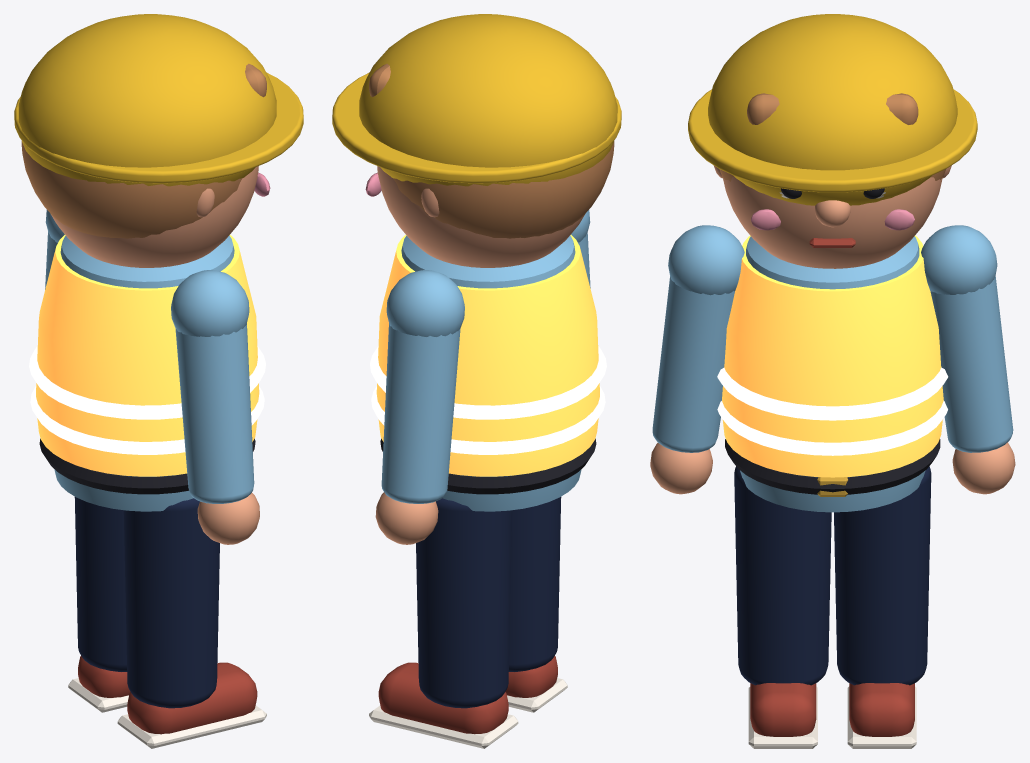
File: ped_worker.glb
3 renders of one model, left to right at view 1: azimuth 30°, elevation 25°; view 2: azimuth 150°, elevation 25°; view 3: azimuth 270°, elevation 25°, orthographic.
Visible parts, largest first — view 1: ped_worker; view 2: ped_worker; view 3: ped_worker.
Part boxes in pixels (x1=…): ped_worker: x1=14, y1=14, x2=303, y2=748; ped_worker: x1=332, y1=14, x2=621, y2=748; ped_worker: x1=650, y1=14, x2=1015, y2=748.
Size of the model in its own units: 0.535 by 1.39 by 0.6761.
1 material, 1 textured.
